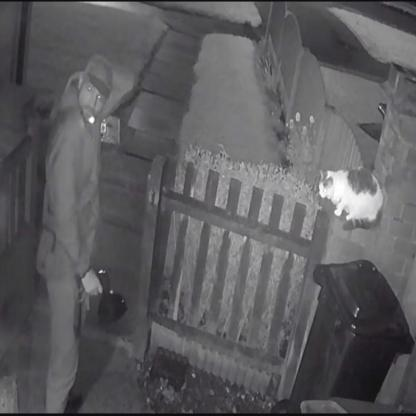cat: (311, 152, 397, 233)
